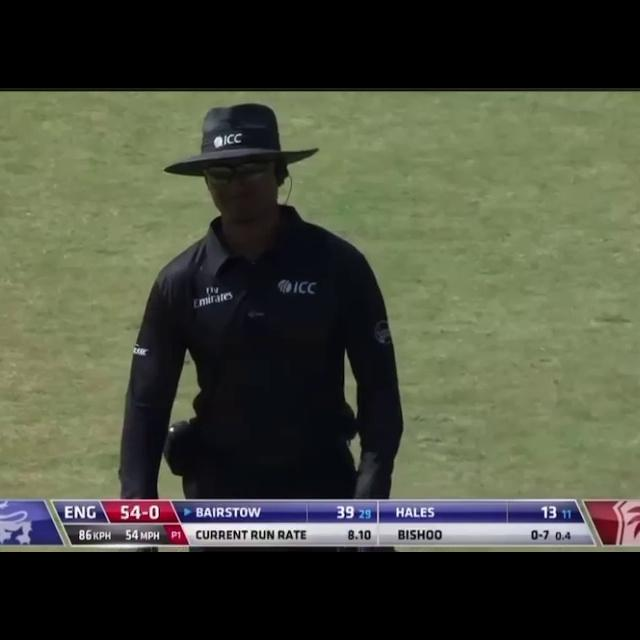umpire: (116, 106, 427, 536)
